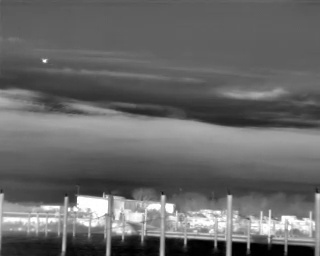BIRD: (40, 55, 50, 65)
